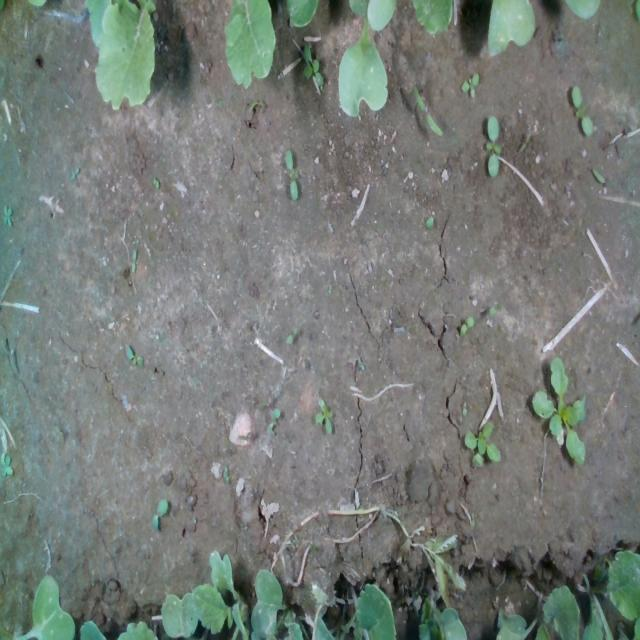weed: (412, 85, 444, 135), (570, 82, 594, 136), (483, 115, 501, 177), (284, 148, 298, 200), (313, 402, 333, 433), (152, 496, 168, 531), (458, 72, 479, 97), (125, 343, 145, 366), (458, 315, 474, 336), (590, 165, 606, 183), (2, 204, 12, 228), (130, 246, 136, 273), (151, 175, 159, 188)
